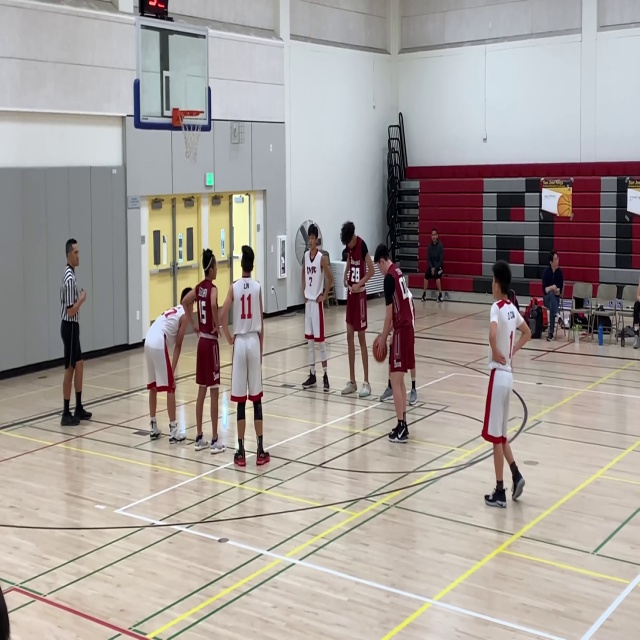Basketball: (372, 335, 387, 362)
